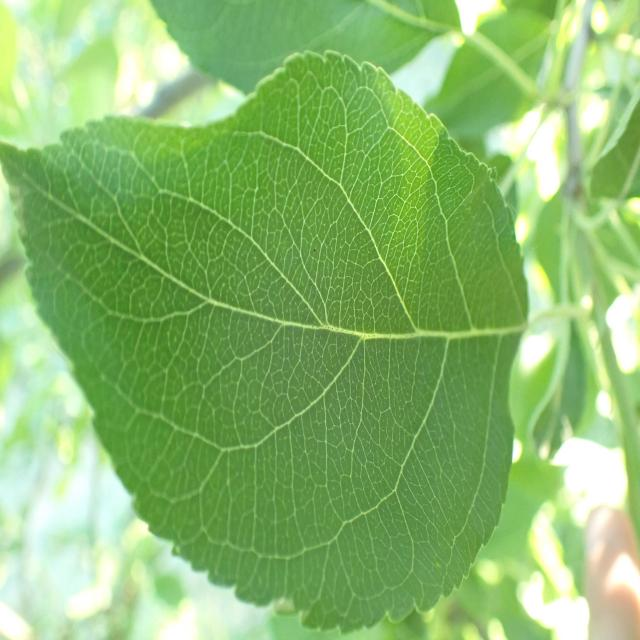healthy: (1, 51, 530, 633), (146, 0, 464, 98)
